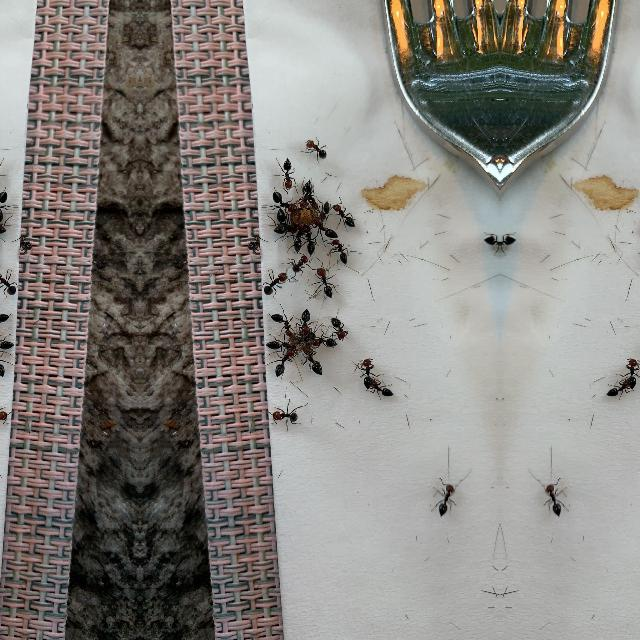Crematogaster: (426, 477, 460, 518), (540, 477, 574, 518), (324, 232, 356, 266), (268, 344, 296, 382), (309, 264, 337, 300), (259, 268, 289, 300), (330, 201, 360, 231), (270, 308, 294, 342), (302, 136, 328, 162), (0, 268, 21, 300), (270, 405, 300, 427), (300, 343, 322, 373), (310, 331, 340, 352), (313, 214, 339, 238), (261, 336, 295, 354), (479, 228, 499, 258), (272, 216, 302, 236), (501, 228, 521, 258), (330, 312, 350, 341), (280, 154, 296, 190), (289, 250, 311, 276), (356, 360, 374, 390), (295, 305, 313, 335), (272, 191, 296, 213), (292, 224, 308, 254), (273, 207, 289, 237), (625, 359, 640, 390), (296, 177, 312, 206), (0, 344, 12, 381), (368, 378, 392, 396), (608, 378, 632, 396), (304, 224, 316, 258), (314, 199, 332, 221), (0, 308, 10, 341), (0, 336, 19, 353), (0, 405, 10, 427), (0, 207, 7, 237), (0, 191, 8, 213), (0, 216, 8, 236)
